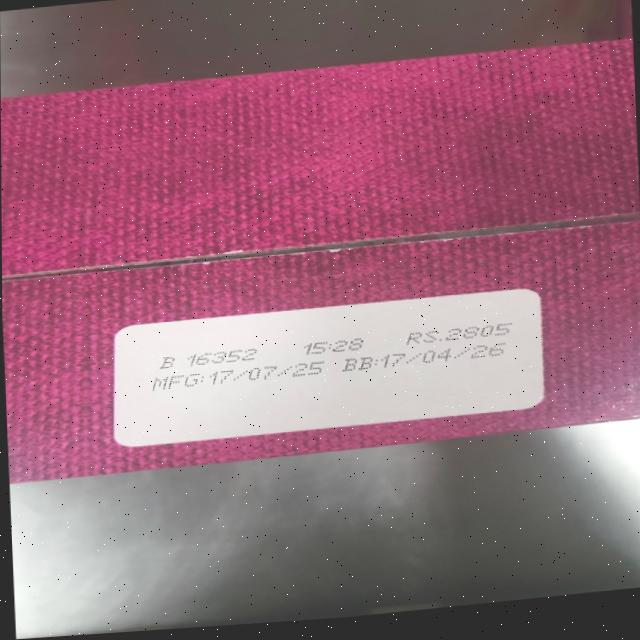BB: (343, 340, 515, 373)
Batch: (157, 342, 265, 374)
MFG: (149, 359, 332, 399)
RS: (401, 318, 520, 350)
TimeStamp: (300, 330, 372, 361)
